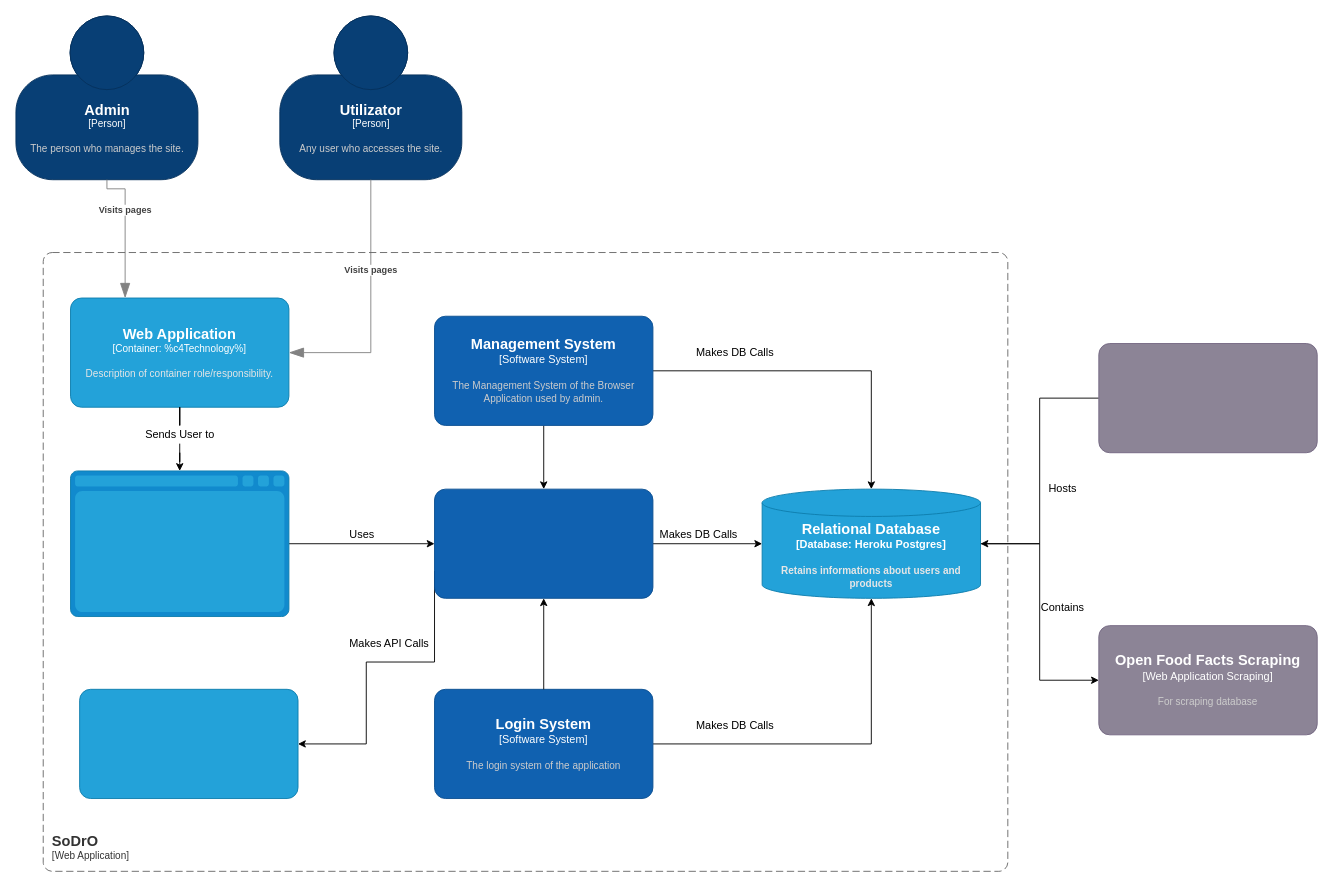
The diagram is 1333 pixels wide and 887 high, and some of its shapes have lost their labels. Each missing label, with the centre of its shape:
API [Router: Custom PHP API] %c4Description%: the point at 188,743
Browser Application [Container : HTML, CSS, Javascript] Web Browser container: the point at 179,543
General System [Software System] The overall application system: the point at 543,543
Heroku [Hosting Database System] Database Host: the point at 1207,398
